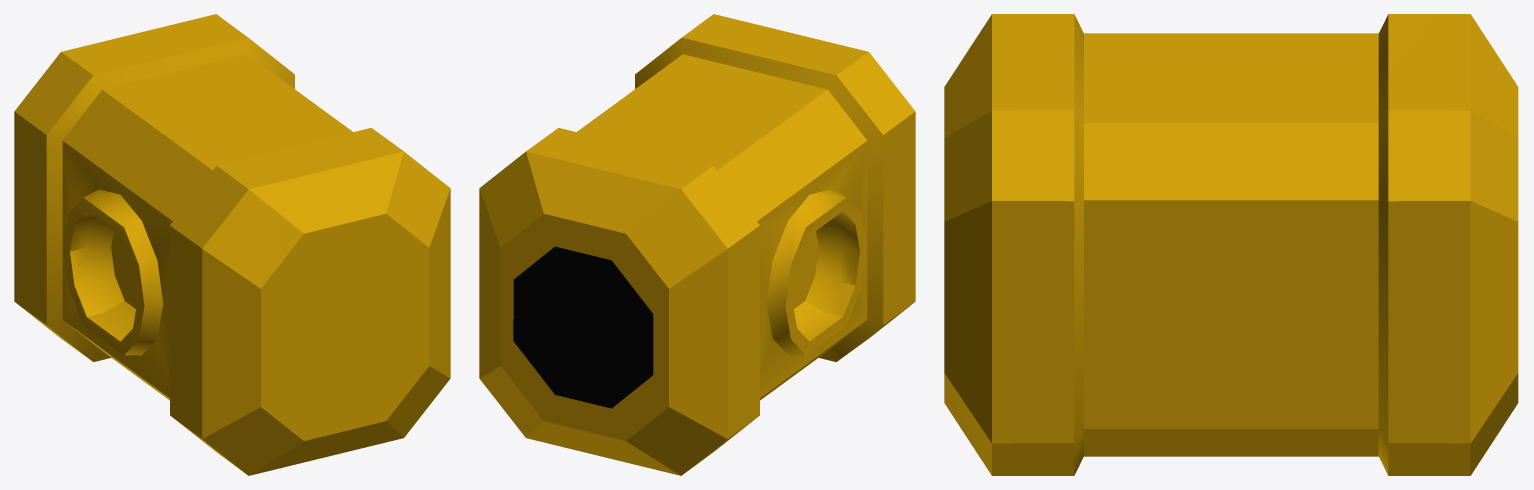
File: SM0078_Lobby_PowerSupply_02.fbx
The picture shows the model from 3 angles, left to right: view 1: azimuth 30°, elevation 25°; view 2: azimuth 150°, elevation 25°; view 3: azimuth 270°, elevation 25°; orthographic projection. The views are drawn at different scales.
Parts seen in each view (by area): view 1: SM0078_Lobby_PowerSupply_02; view 2: SM0078_Lobby_PowerSupply_02; view 3: SM0078_Lobby_PowerSupply_02.
Boxes of the visible parts, x1,y1,x2,y2 form: SM0078_Lobby_PowerSupply_02: (14, 14, 450, 475); SM0078_Lobby_PowerSupply_02: (479, 14, 915, 475); SM0078_Lobby_PowerSupply_02: (944, 14, 1518, 475).
Bounding box in the file's own units: 56.37 × 87.13 × 61.07.
